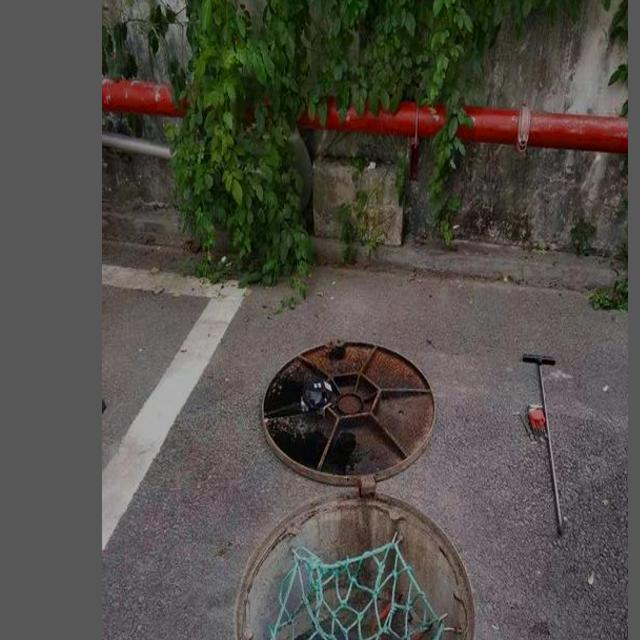uncovered: (210, 315, 501, 640)
